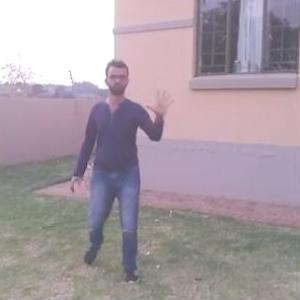follow_hand: (145, 83, 178, 119)
